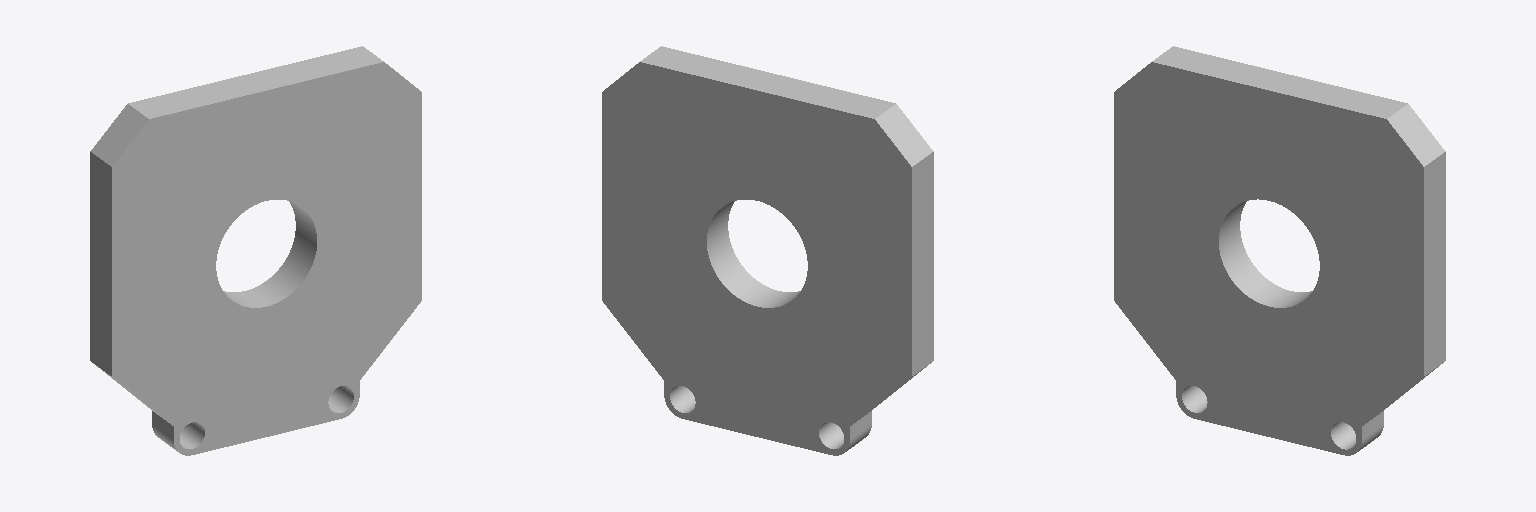
Rendered from V5_Filter Mount (SM05).obj.
3 views of the same model, side by side, from view 1: azimuth 30°, elevation 25°; view 2: azimuth 150°, elevation 25°; view 3: azimuth 330°, elevation 25° (orthographic).
Visible parts, largest first — view 1: Solid1:22; view 2: Solid1:22; view 3: Solid1:22.
Part boxes in pixels (bbox=[...]): Solid1:22: bbox=[90, 46, 421, 455]; Solid1:22: bbox=[602, 46, 933, 455]; Solid1:22: bbox=[1114, 46, 1445, 455].
Bounding box in the file's own units: 41.6 × 44.5 × 5.